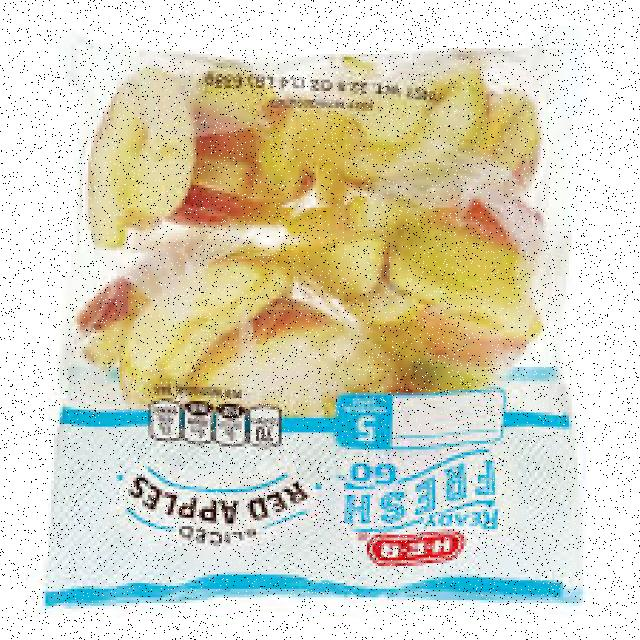Apple: (391, 230, 528, 322), (193, 303, 346, 374), (128, 79, 199, 230), (374, 84, 483, 174), (90, 96, 134, 248), (392, 330, 524, 380), (284, 236, 383, 295), (74, 276, 156, 344), (172, 191, 284, 227), (488, 105, 533, 186), (192, 155, 276, 195), (434, 201, 509, 244), (288, 204, 386, 234), (200, 126, 266, 153)
